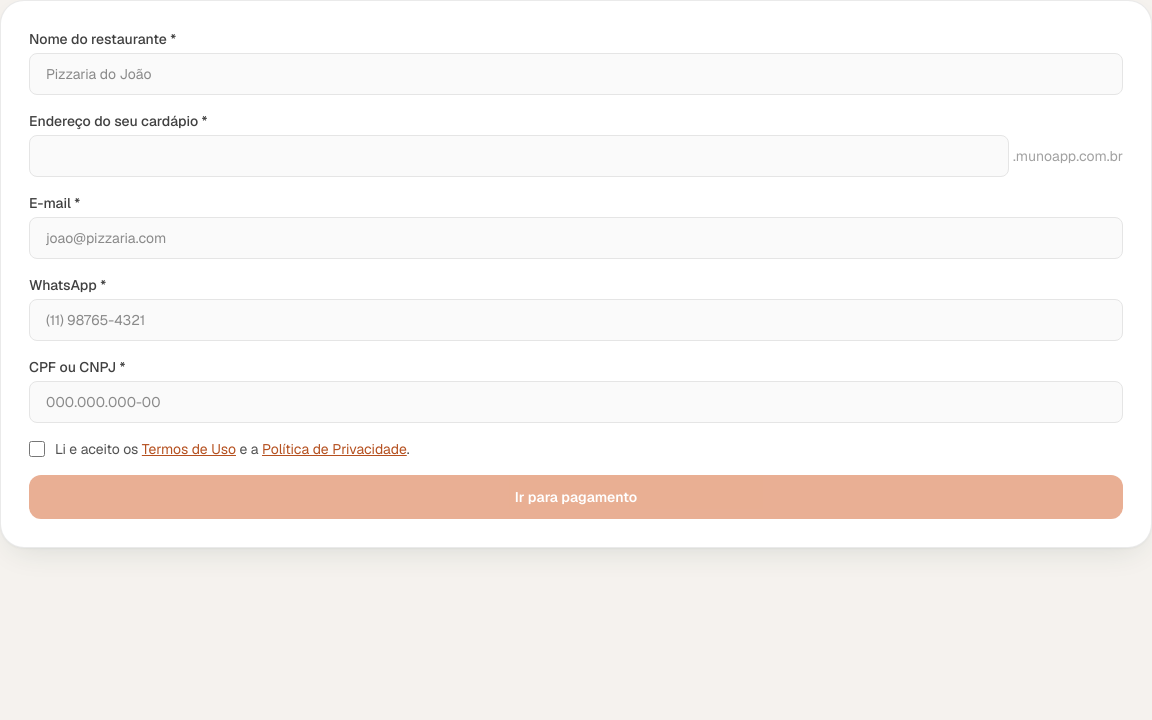
Test: FormularioAssinatura: WhatsApp › mantém o botão travado com fixo no lugar de celular
Type "Pizzaria do Ze" into the field labelled "Nome do restaurante *" at (576, 74), box [29,53,1123,95]
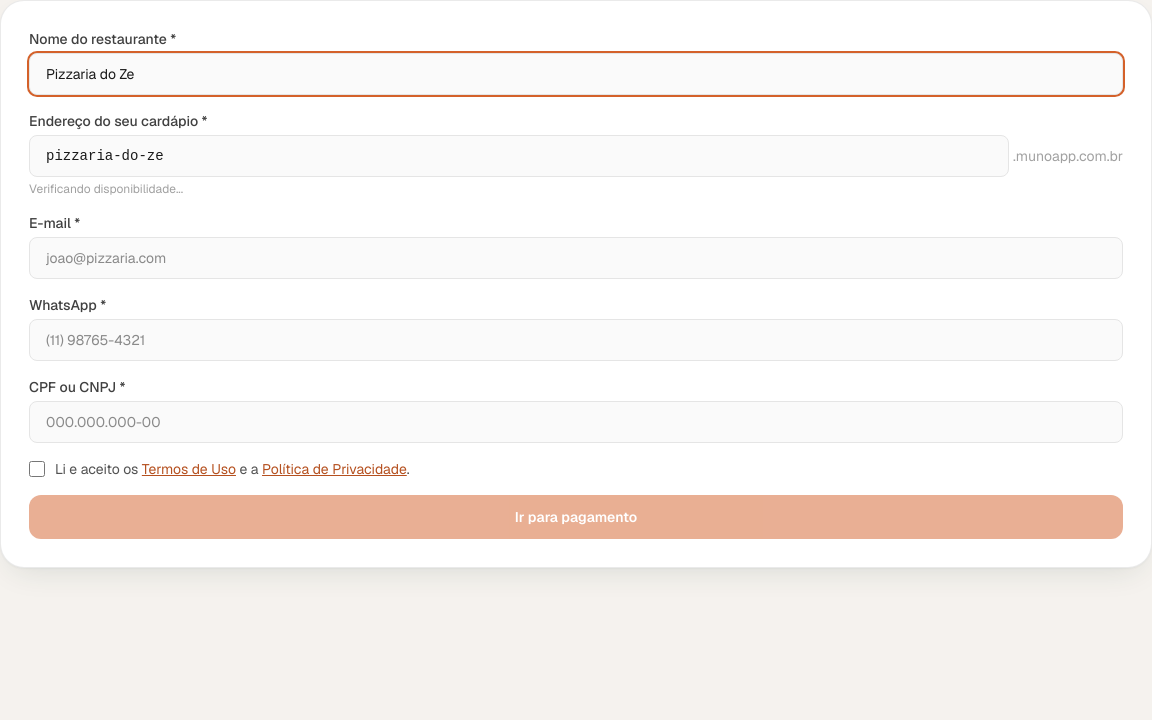
Type "dono@pizzaria.com" into the field labelled "E-mail *" at (576, 258), box [29,237,1123,279]
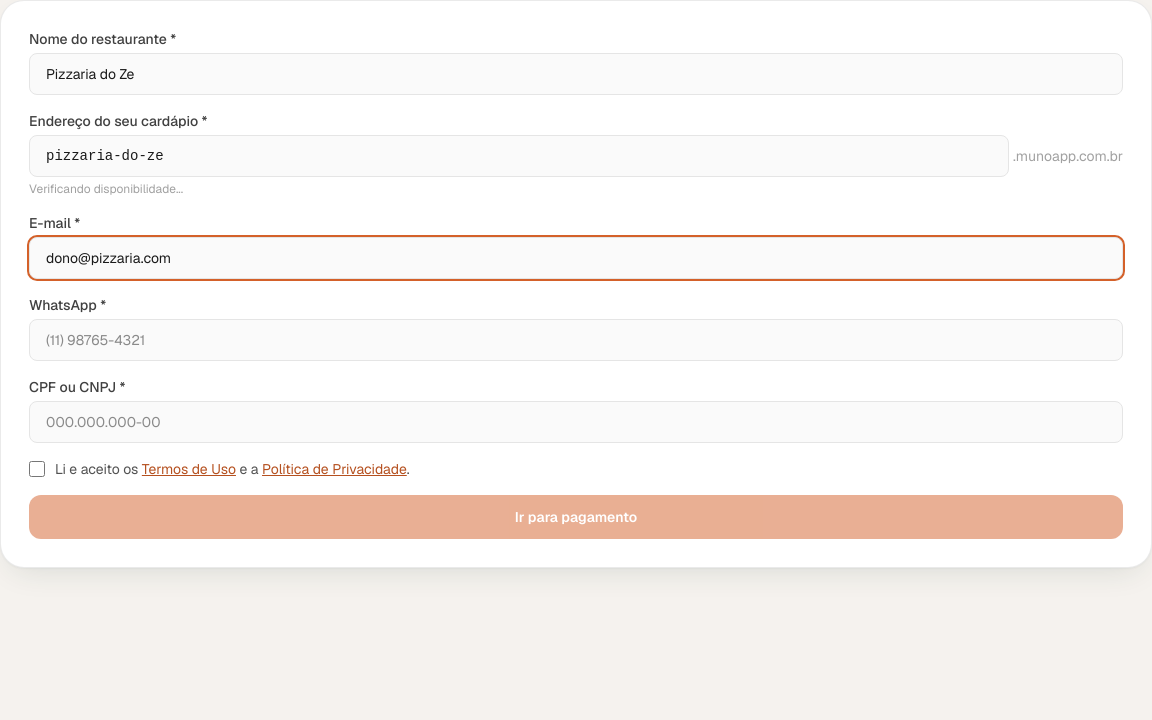
Type "11987654321" into the field labelled "WhatsApp *" at (576, 340), box [29,319,1123,361]
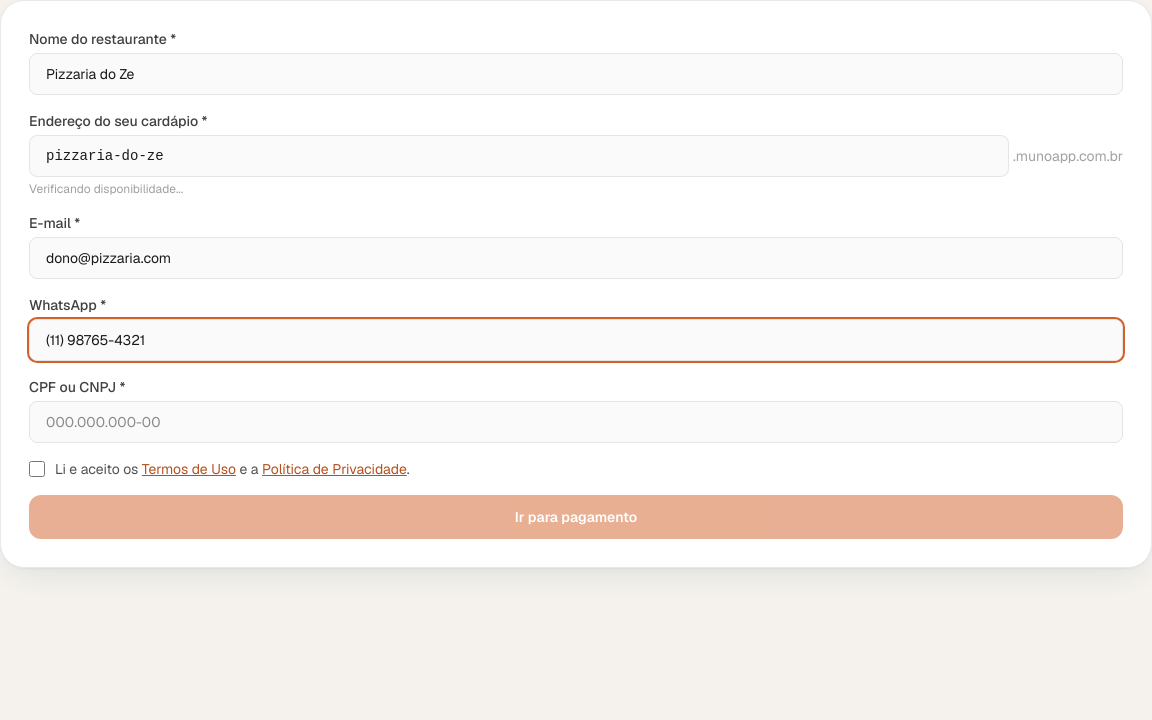
Type "24971563792" into the field labelled "CPF ou CNPJ *" at (576, 422), box [29,401,1123,443]
Wait 500 ms
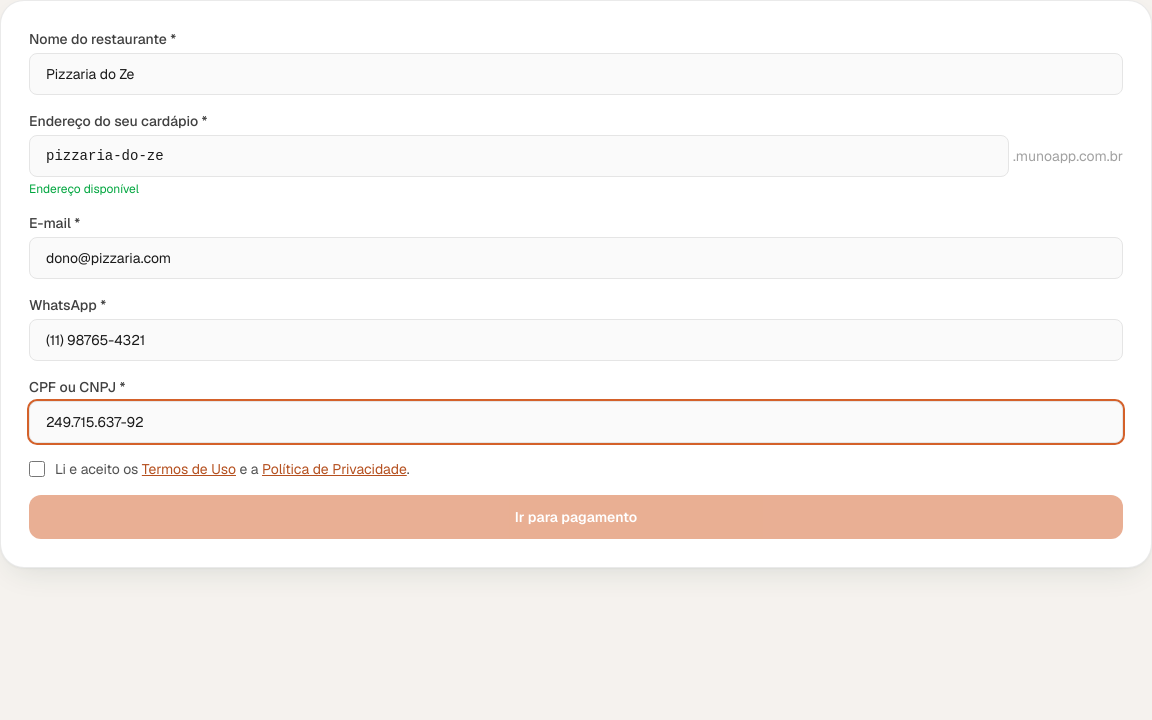
Check: the text "Endereço disponível" is shown, box [29,181,139,197]
Click the checkbox labelled "Li e aceito os Termos de Uso e a Política de Privacidade ." at (37, 469), box [29,461,45,477]
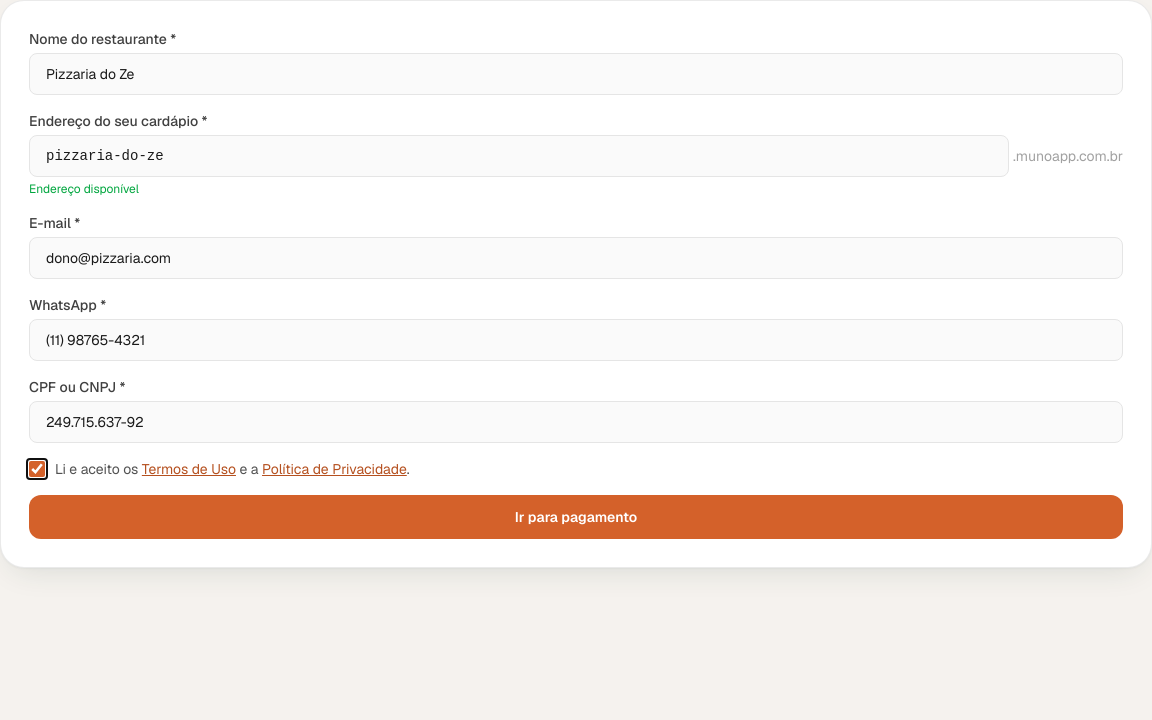
Type "1134567890" into the field labelled "WhatsApp *" at (576, 340), box [29,319,1123,361]
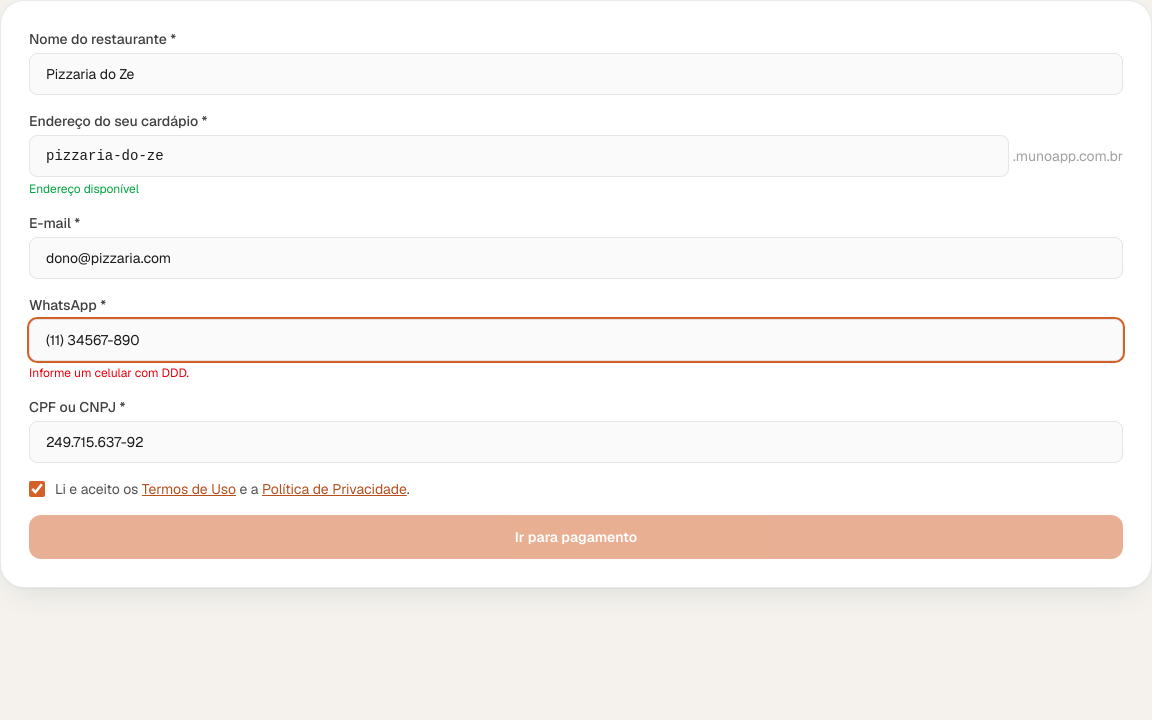
Check: the button "Ir para pagamento" is disabled, box [29,515,1123,559]
Check: the text "Informe um celular com DDD." is shown, box [29,365,189,381]
